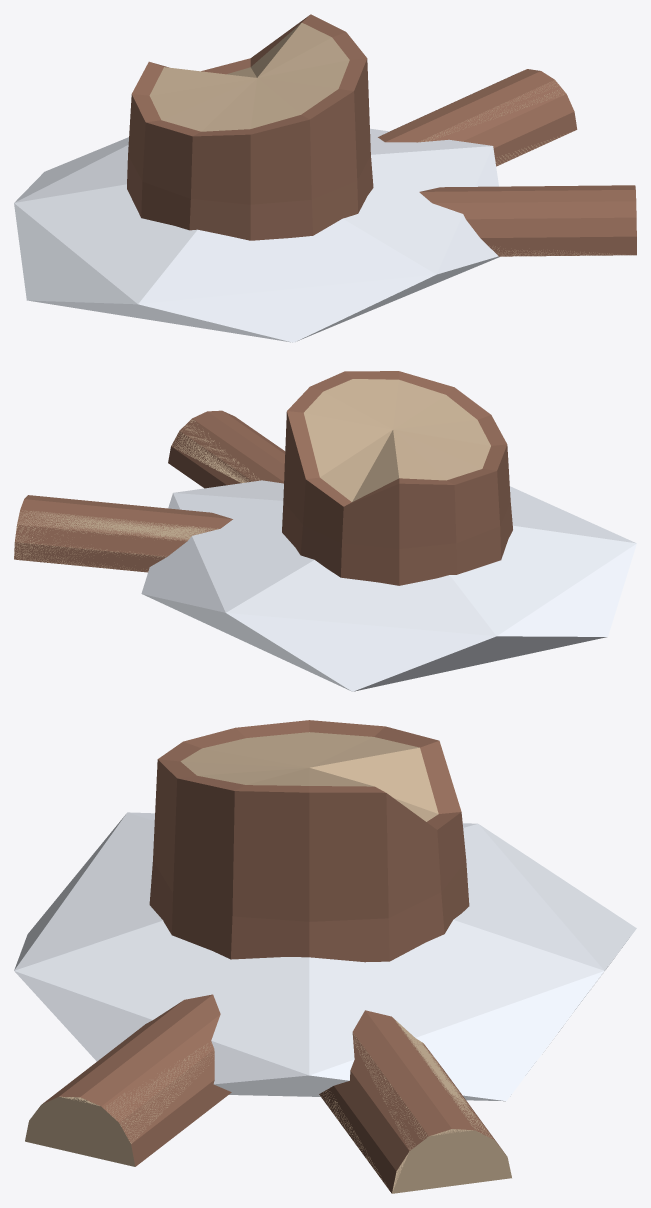
File: TREE_STUMP.glb
3 views of the same model, one above another, from view 1: azimuth 30°, elevation 25°; view 2: azimuth 150°, elevation 25°; view 3: azimuth 270°, elevation 25° (orthographic). The views are drawn at different scales.
Visible parts, largest first — view 1: TREE_STUMP; view 2: TREE_STUMP; view 3: TREE_STUMP.
Boxes of the visible parts, x1,y1,x2,y2 form: TREE_STUMP: [14, 14, 636, 342]; TREE_STUMP: [14, 371, 636, 691]; TREE_STUMP: [14, 720, 636, 1193].
Bounding box in the file's own units: 1.78 × 0.59 × 1.29.
